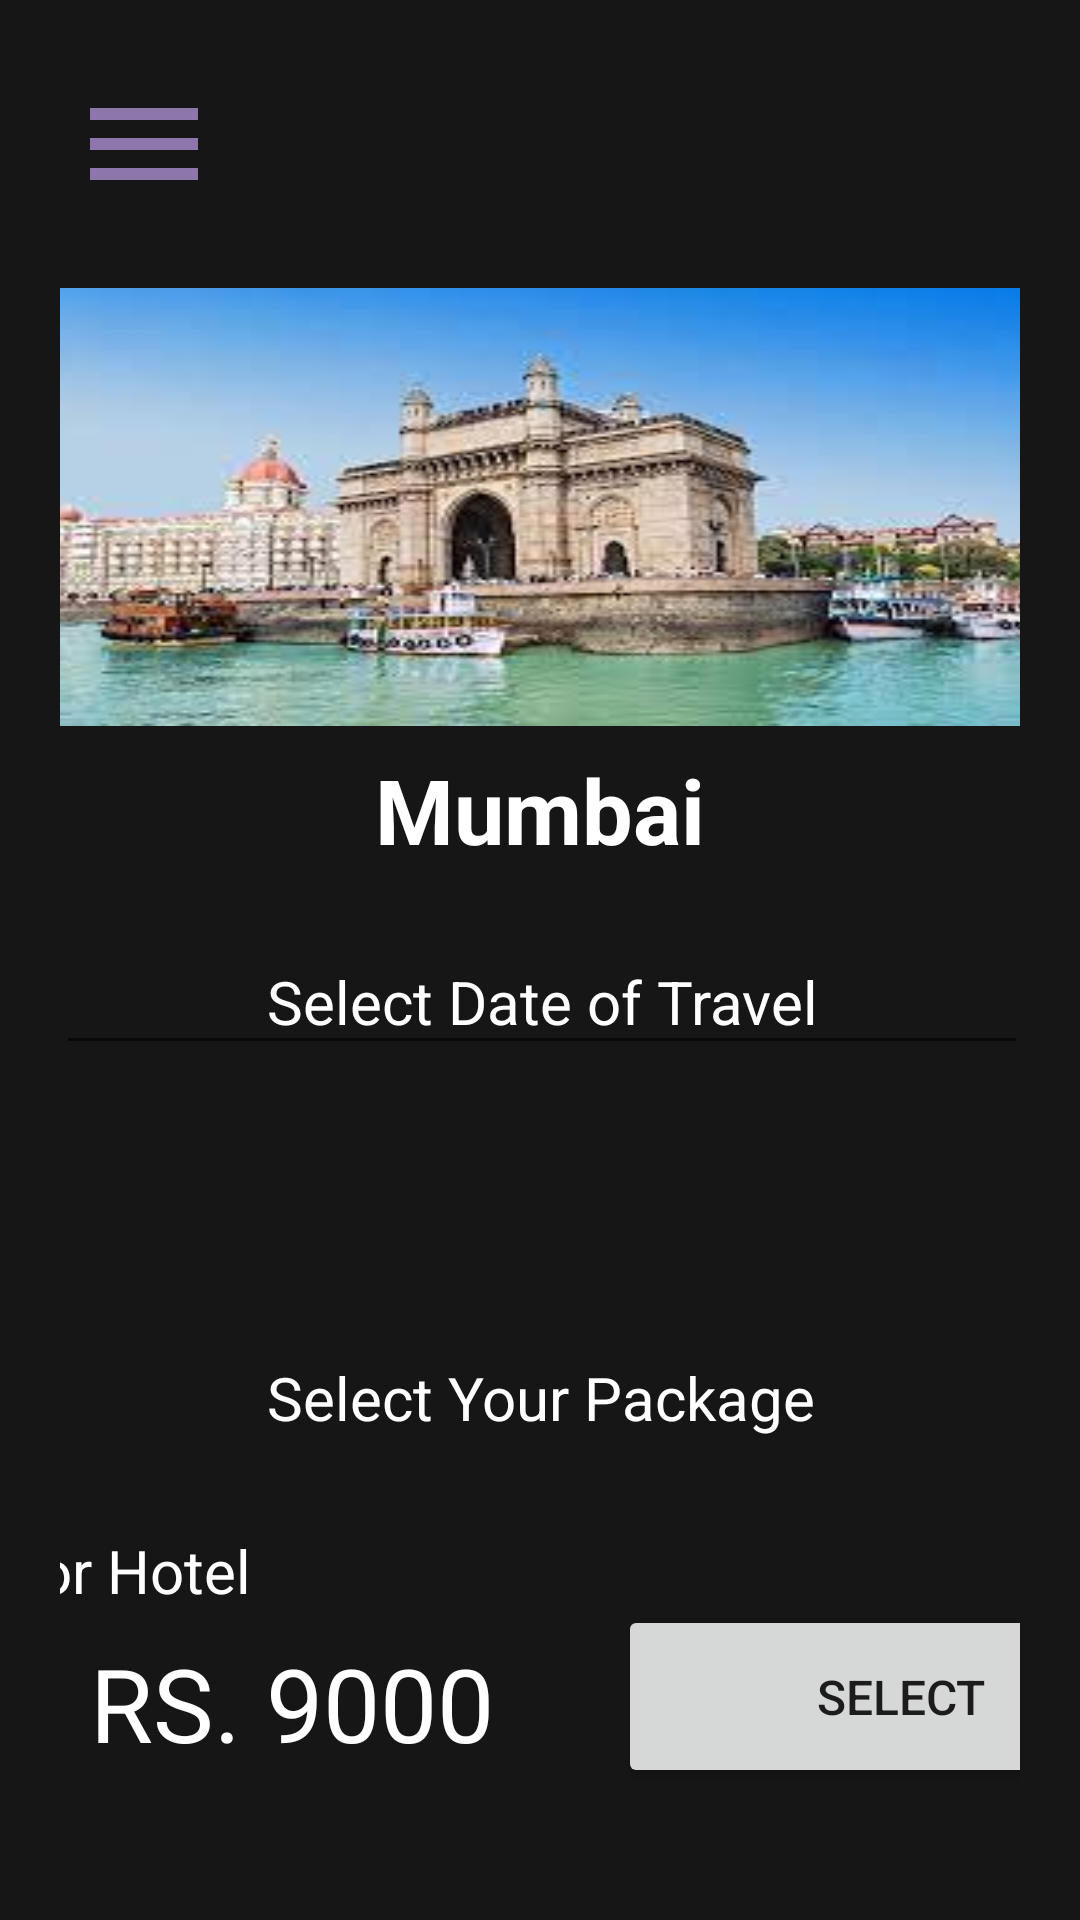

Where to tap for icons on this 1080 × 1920 app screen, as point (x, y):
menu: point (144, 144)
